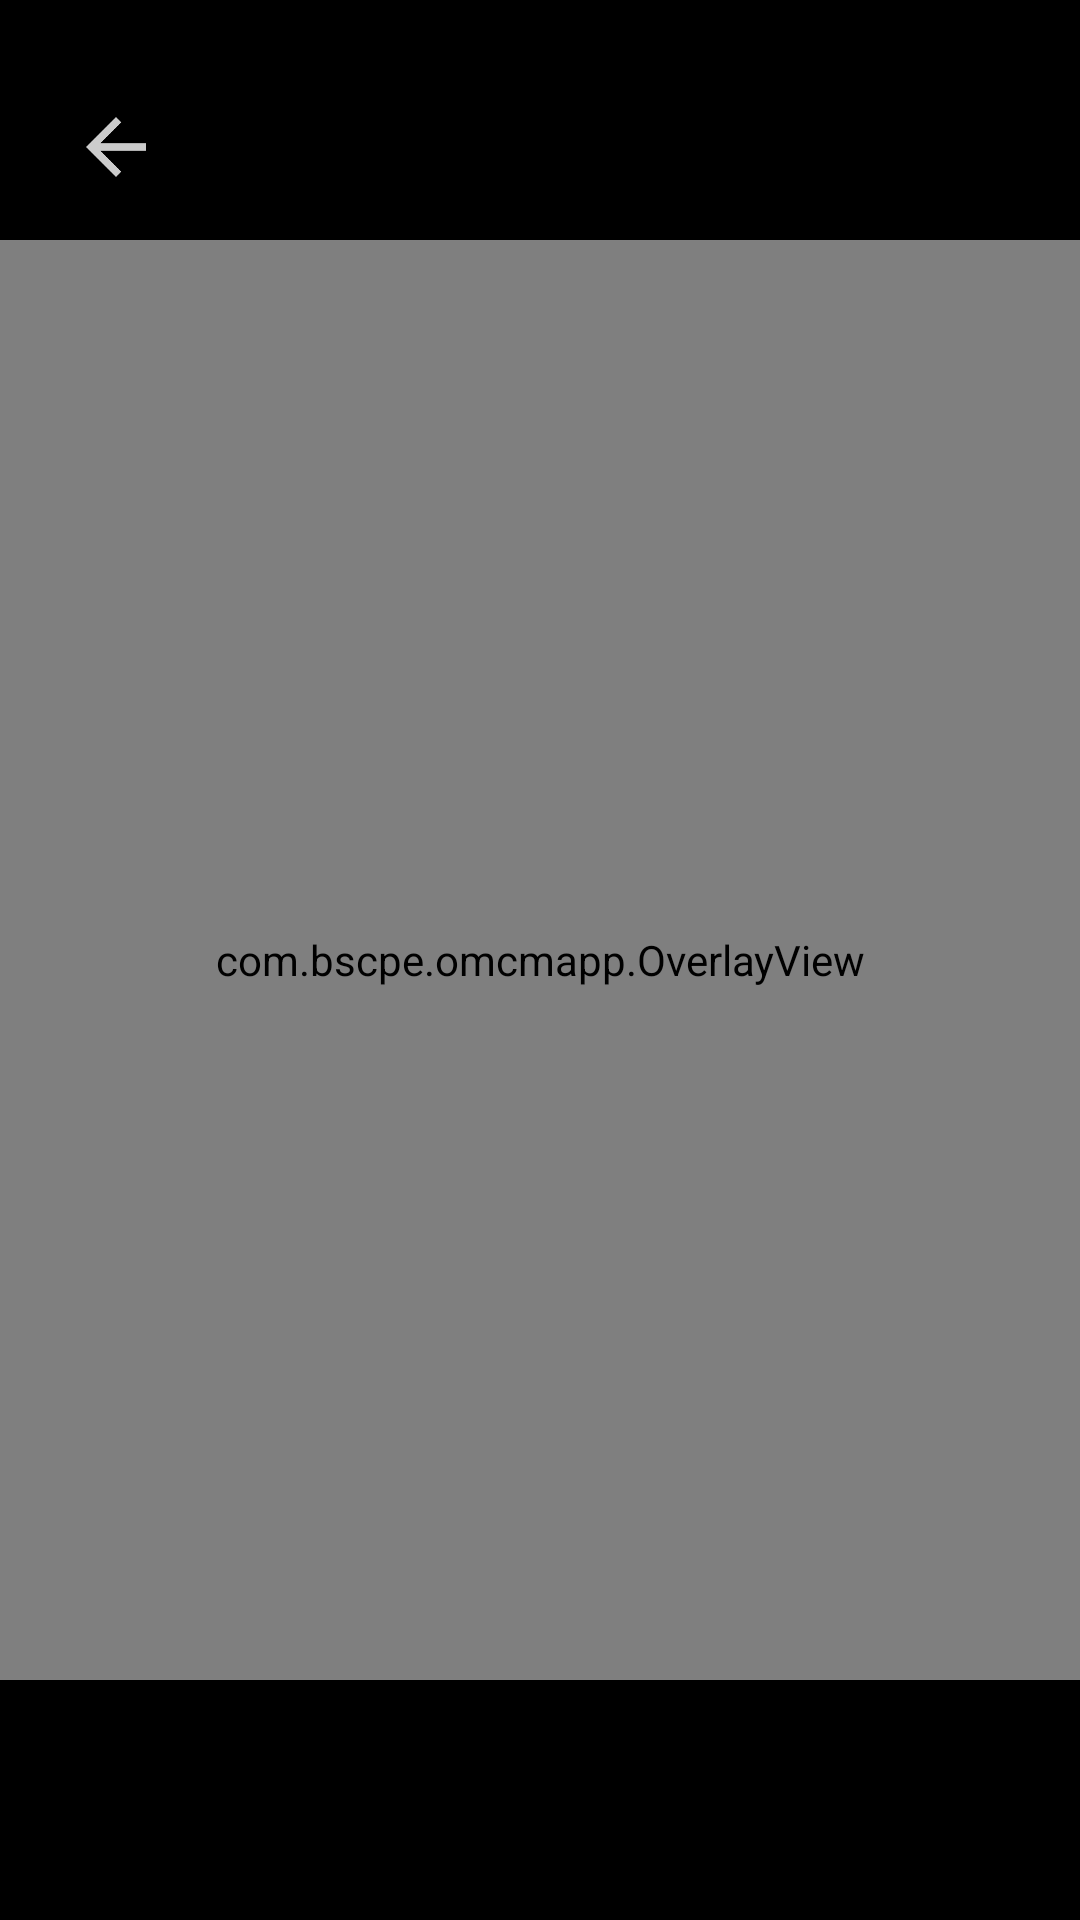

Named icons in this screenshot (1080×1920) and their bounding boxes, (x1, y1, x2, y2):
Back Button: (86, 117, 146, 177)
